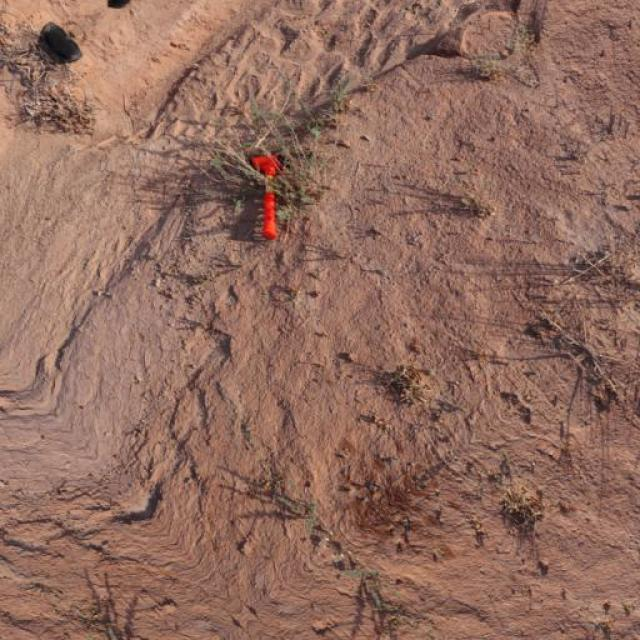mallet: (248, 150, 284, 240)
